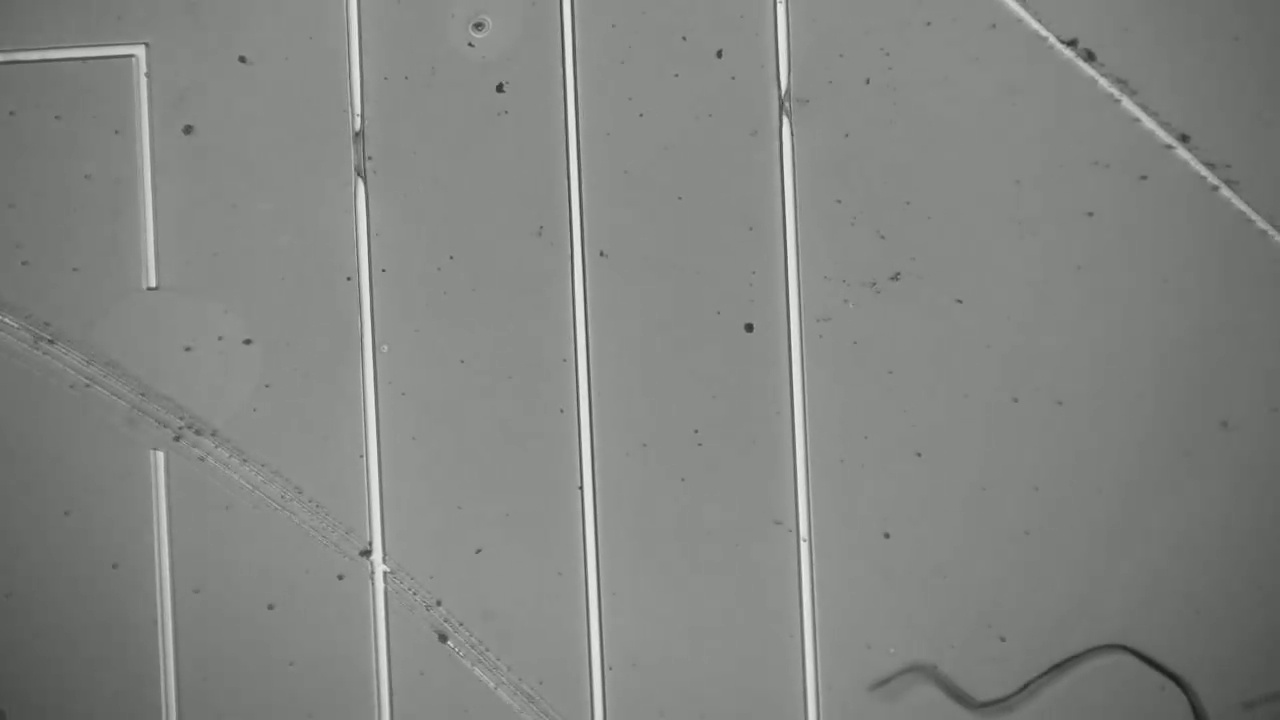gray_line: (331, 101, 384, 210), (755, 74, 805, 146)
open: (100, 249, 199, 506)
scratch: (0, 294, 562, 707), (978, 0, 1274, 238)
